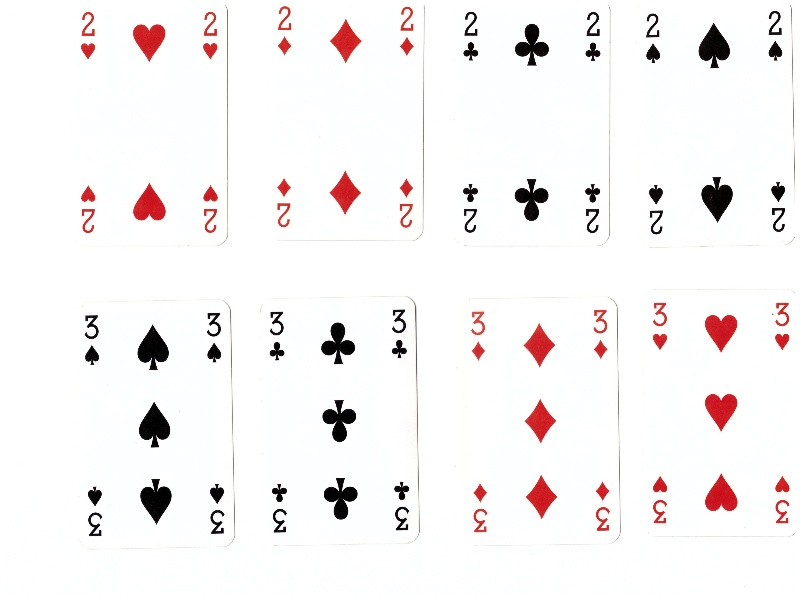2c: (580, 179, 606, 239), (459, 7, 485, 64), (458, 179, 482, 238), (583, 7, 606, 68)
2d: (271, 176, 296, 232), (395, 3, 419, 60), (273, 2, 296, 59), (395, 174, 417, 232)
2h: (77, 8, 100, 65), (199, 180, 221, 238), (78, 181, 100, 238), (200, 9, 222, 62)
2s: (644, 180, 670, 240), (642, 8, 666, 68), (764, 8, 787, 65), (767, 177, 789, 236)
3c: (263, 306, 291, 364), (269, 480, 293, 538), (389, 476, 413, 534), (388, 305, 412, 361)
3d: (465, 305, 494, 363), (587, 303, 612, 363), (469, 479, 494, 538), (593, 476, 615, 537)
3h: (767, 295, 795, 352), (648, 473, 675, 531), (648, 299, 675, 351), (770, 472, 794, 529)
3s: (203, 478, 229, 539), (81, 309, 107, 368), (202, 307, 227, 368), (84, 482, 109, 540)
